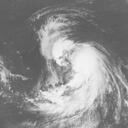cyclone: (38, 16, 110, 88)
